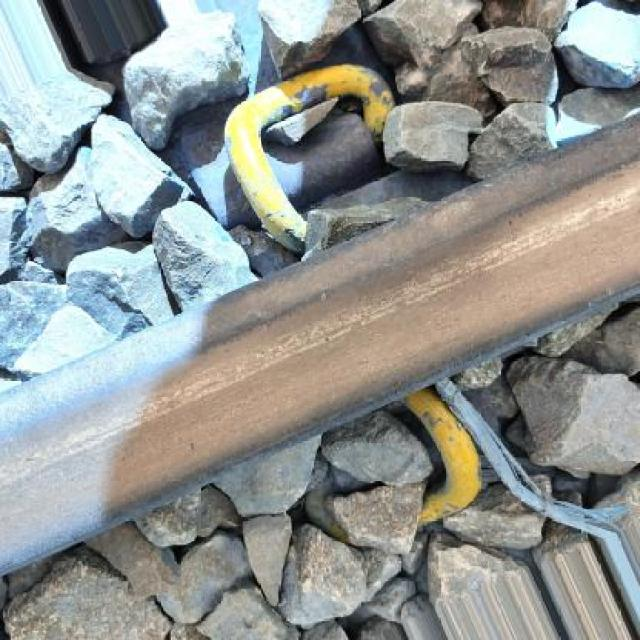non-defective: (0, 101, 640, 640)
